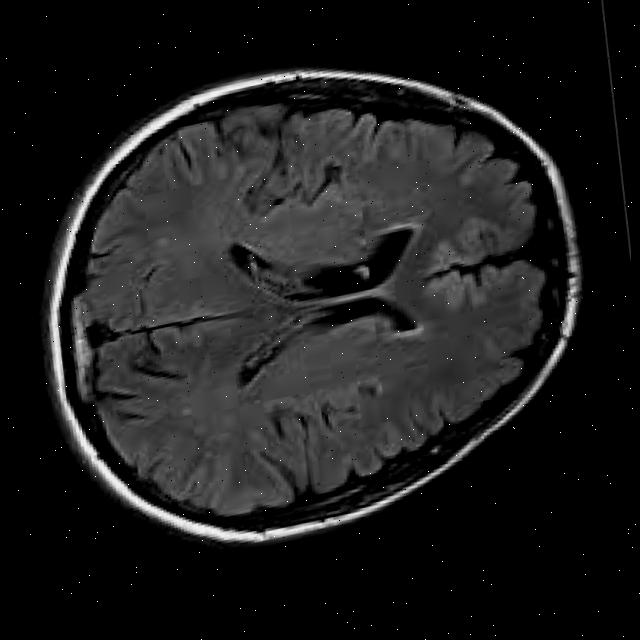NoTumor: (9, 8, 621, 589)
